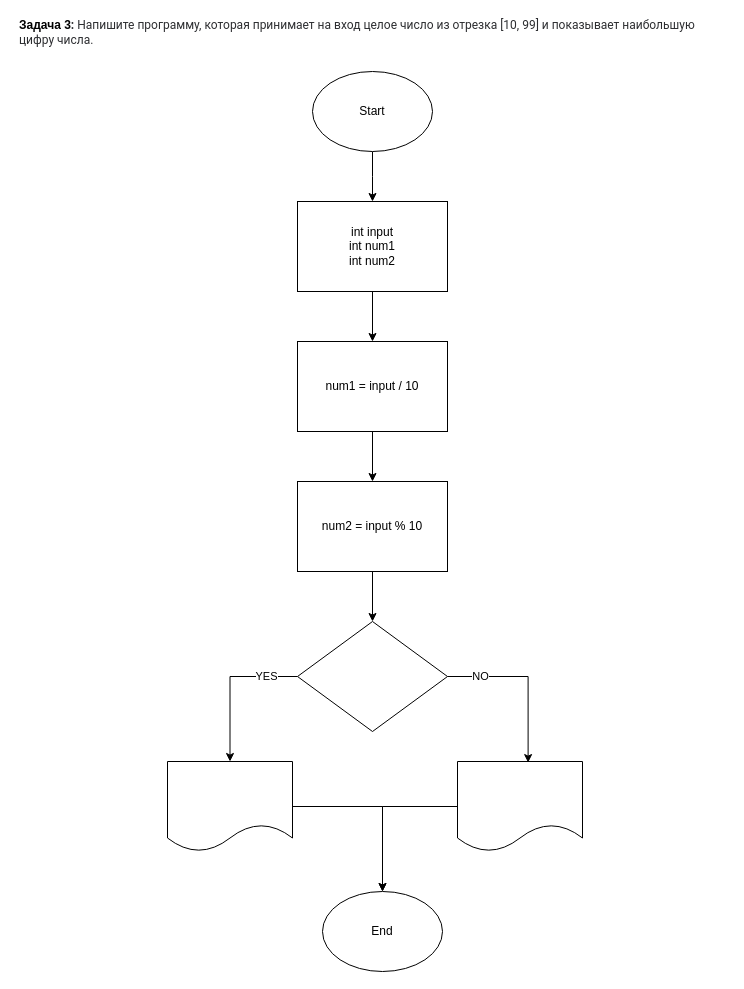
Some shapes in this 744 by 989 pixel diagram are drawn without their labels. Each missing label, with the centre of its shape:
num1: the point at 229,806
num1 > num 2 ?: the point at 372,676
num2: the point at 519,806
